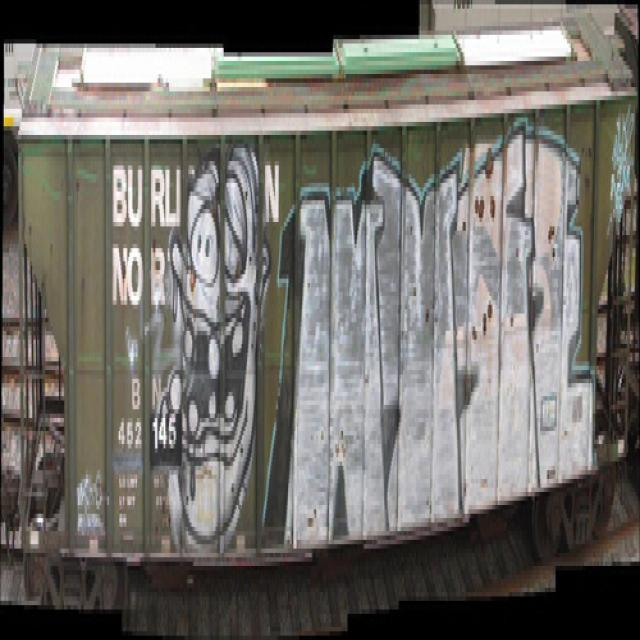train: (16, 10, 640, 611)
